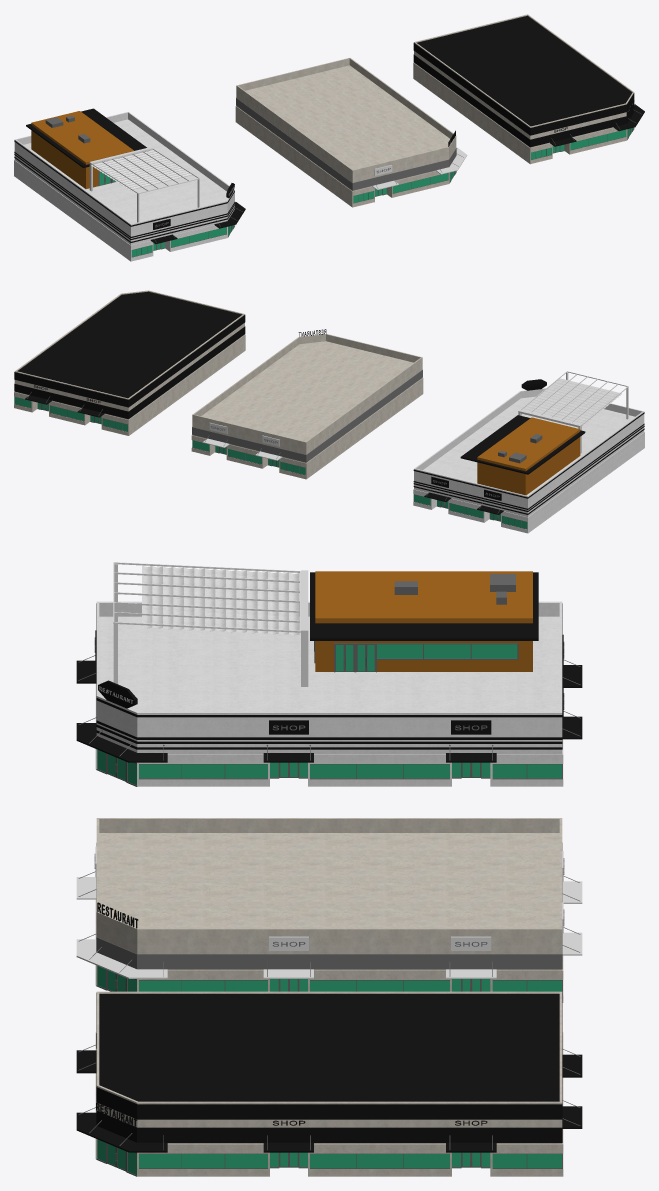
File: RETAIL_1ABC.FBX
3 views of the same model, one above another, from view 1: azimuth 30°, elevation 25°; view 2: azimuth 150°, elevation 25°; view 3: azimuth 270°, elevation 25° (orthographic). The views are drawn at different scales.
Parts seen in each view (by area): view 1: B-4-A, B-4-C, B-4-B; view 2: B-4-A, B-4-C, B-4-B; view 3: B-4-A, B-4-C, B-4-B.
Part boxes in pixels (<box>): B-4-A: <box>14,108,245,261</box>; B-4-C: <box>413,14,644,164</box>; B-4-B: <box>235,58,467,207</box>; B-4-A: <box>413,371,644,533</box>; B-4-C: <box>14,290,245,435</box>; B-4-B: <box>191,334,423,479</box>; B-4-A: <box>76,562,582,786</box>; B-4-C: <box>76,991,582,1176</box>; B-4-B: <box>76,818,582,1002</box>.
Size of the model in its own units: 11922 by 1360 by 5000.
